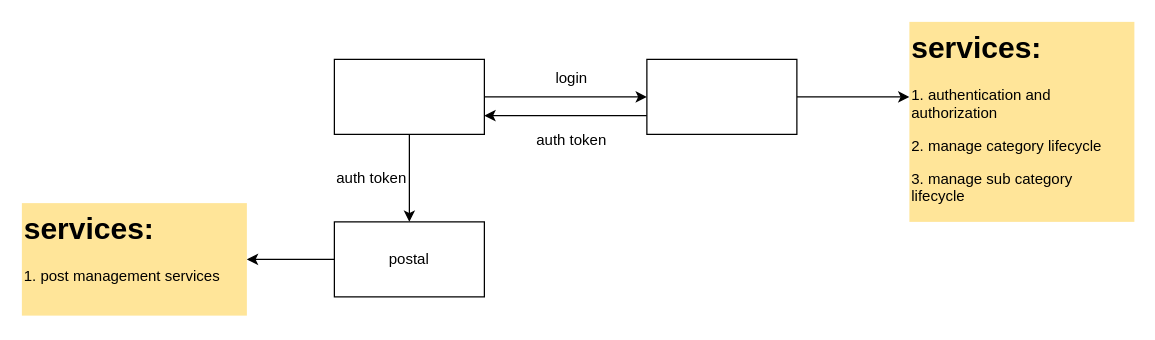
This 1155x340 diagram has some shape labels left out. Each missing label, with the box of its shape:
admin: (333, 58, 484, 134)
cortex: (646, 58, 797, 134)
